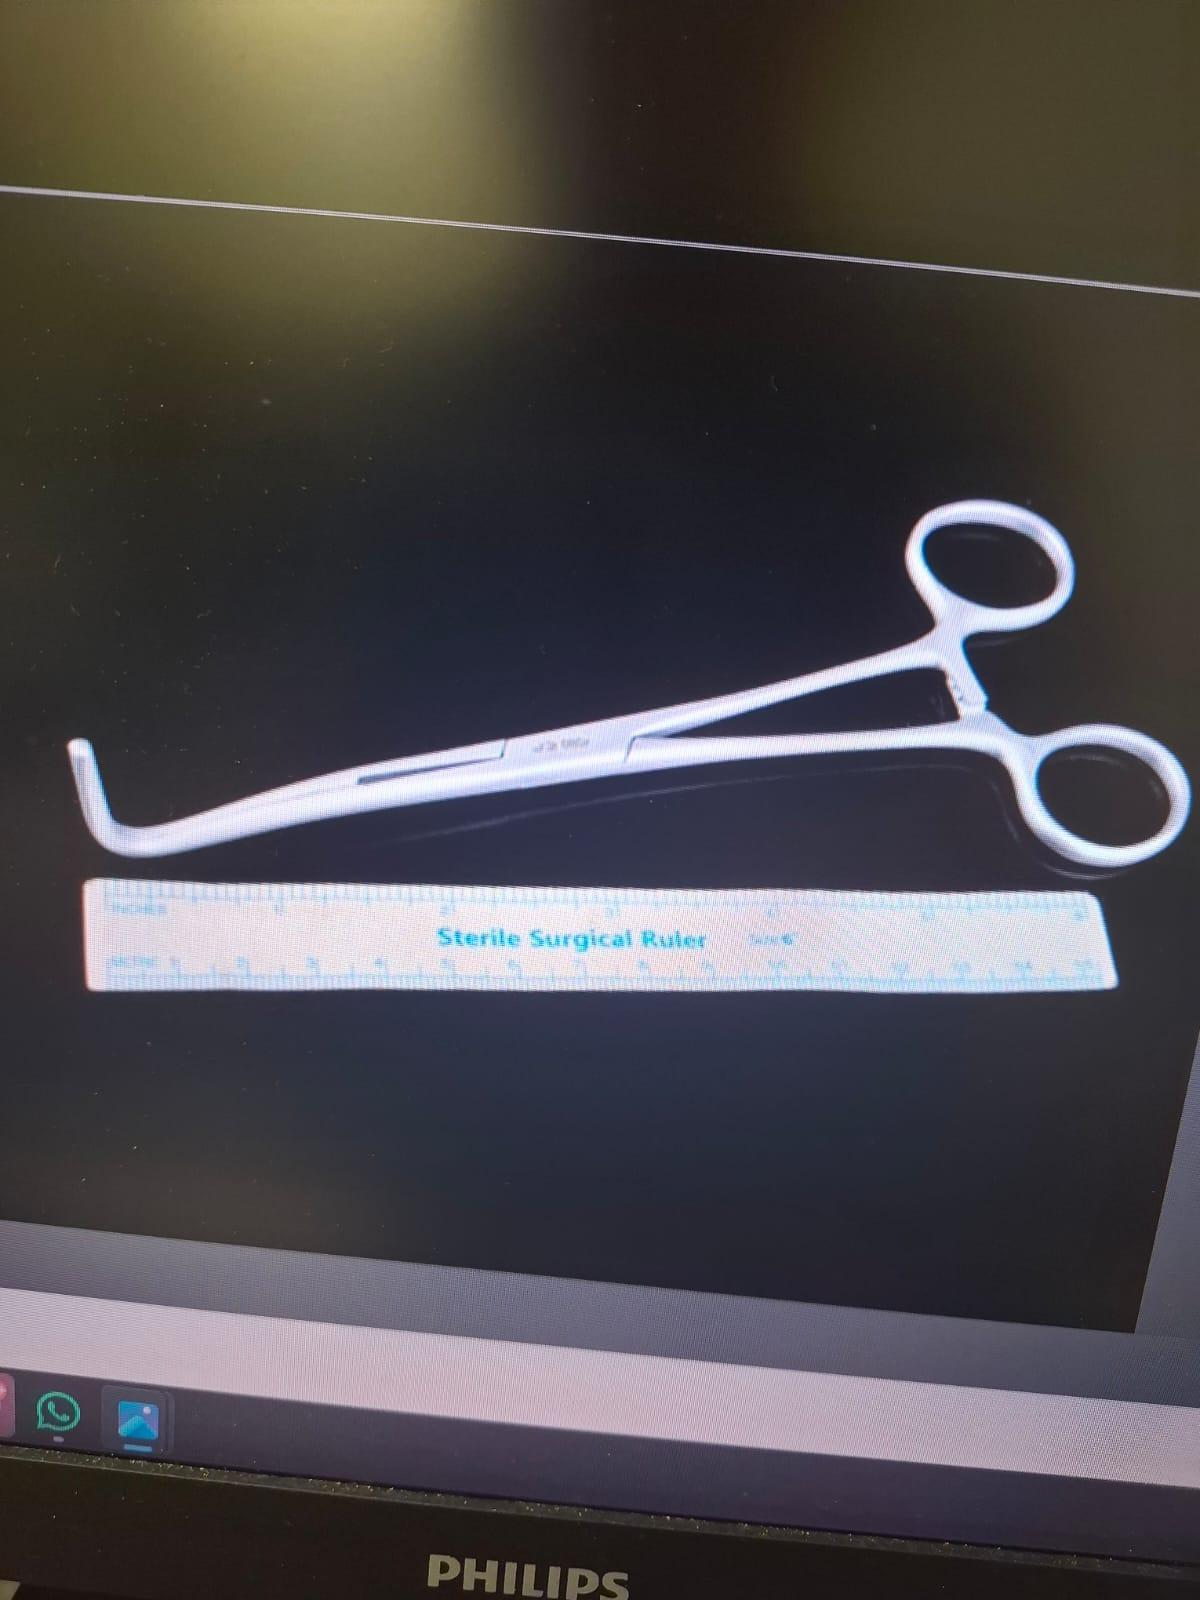Rectangle Cholecystectomy Forceps: (45, 477, 1200, 900)
